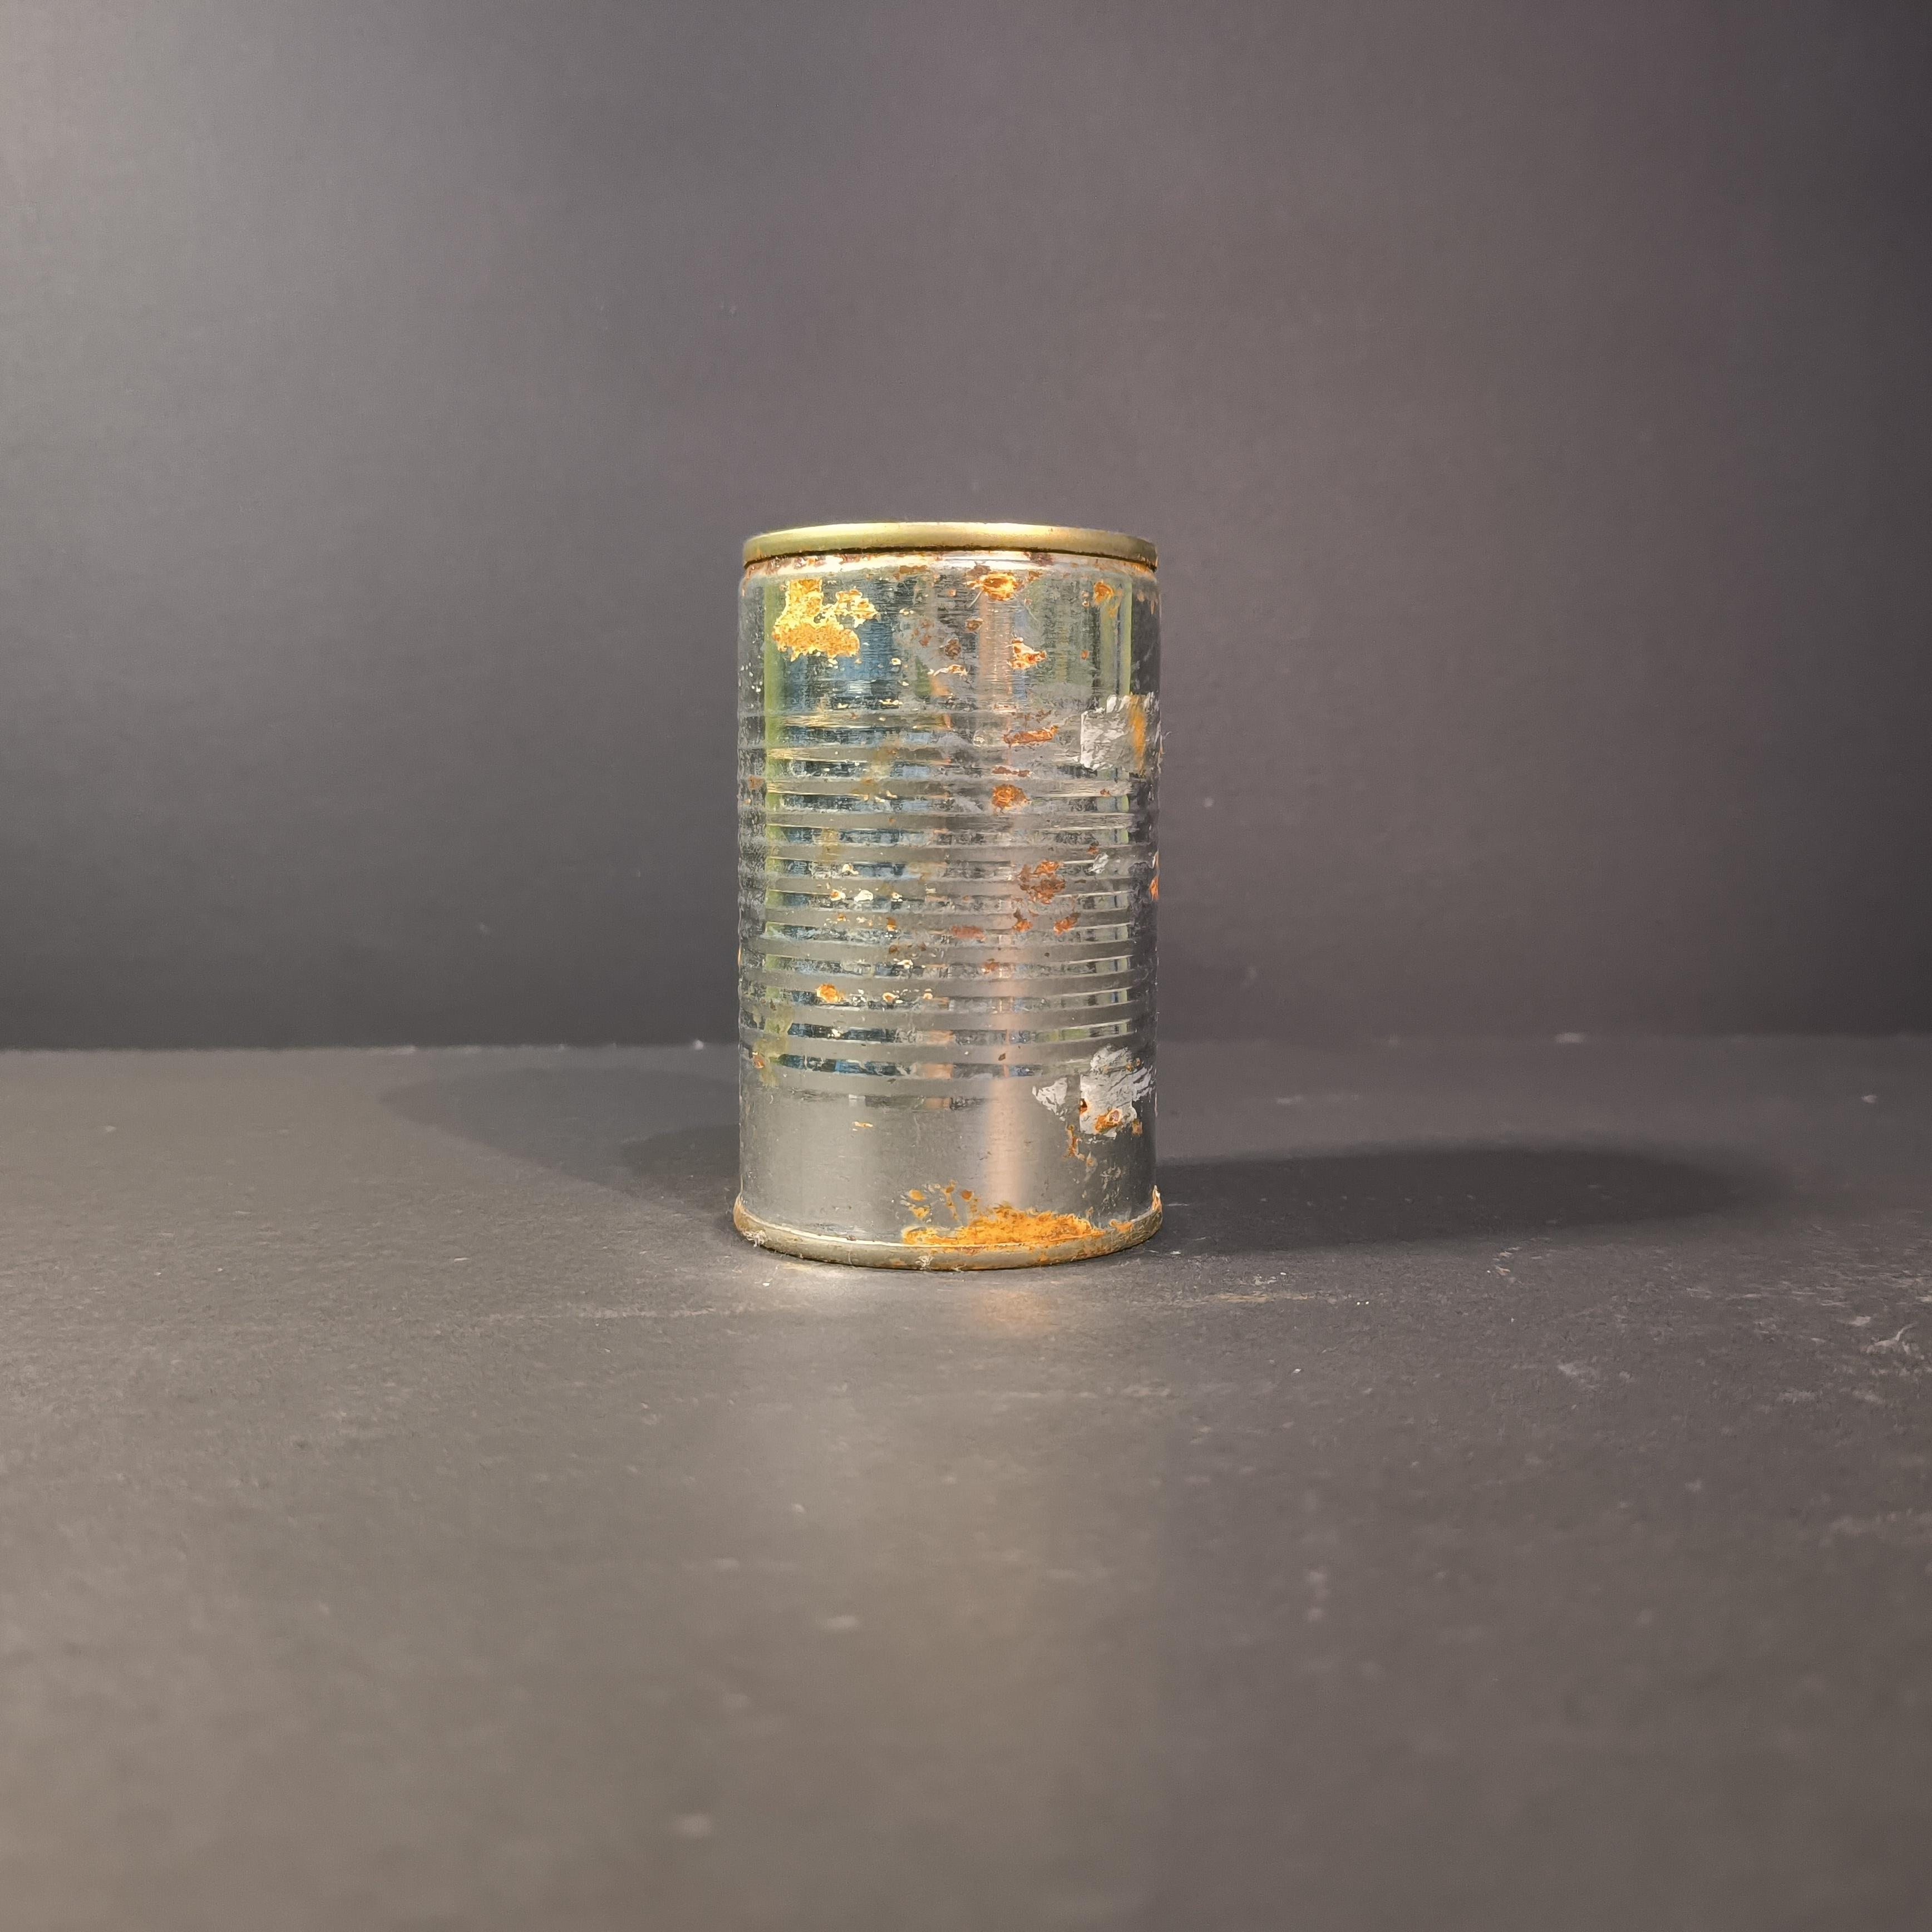Rusted: (720, 492, 1185, 1279)
